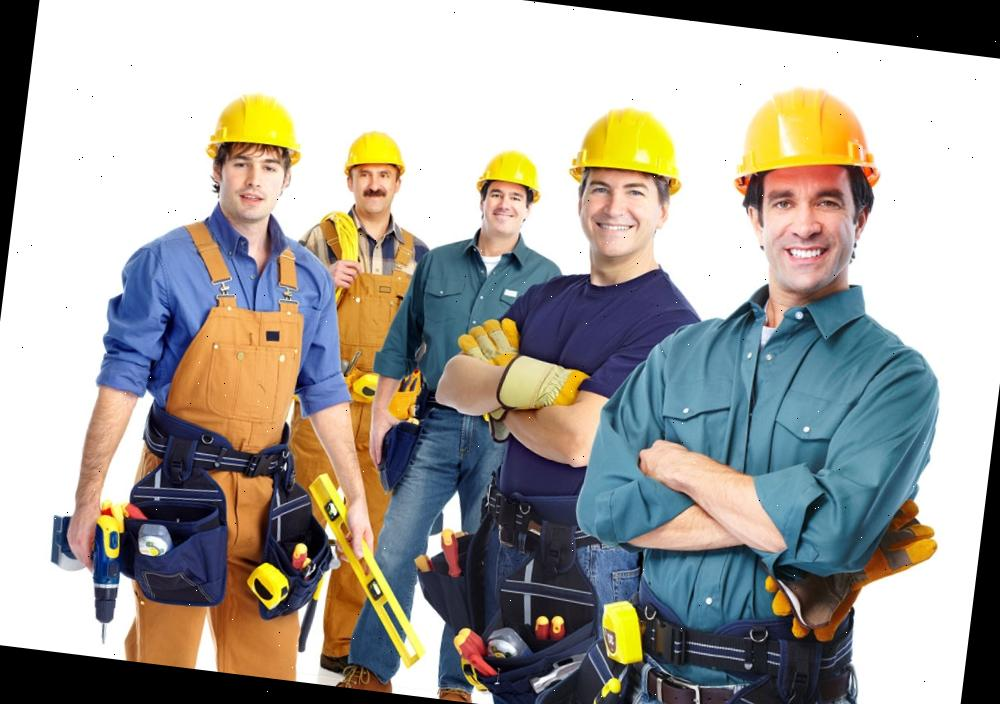helmet: (716, 77, 887, 201), (558, 98, 688, 196), (200, 83, 309, 166), (474, 144, 548, 200), (336, 126, 408, 178)
no_wear: (634, 306, 916, 663), (472, 272, 709, 542), (132, 227, 328, 458), (296, 216, 436, 364), (415, 240, 548, 346)
